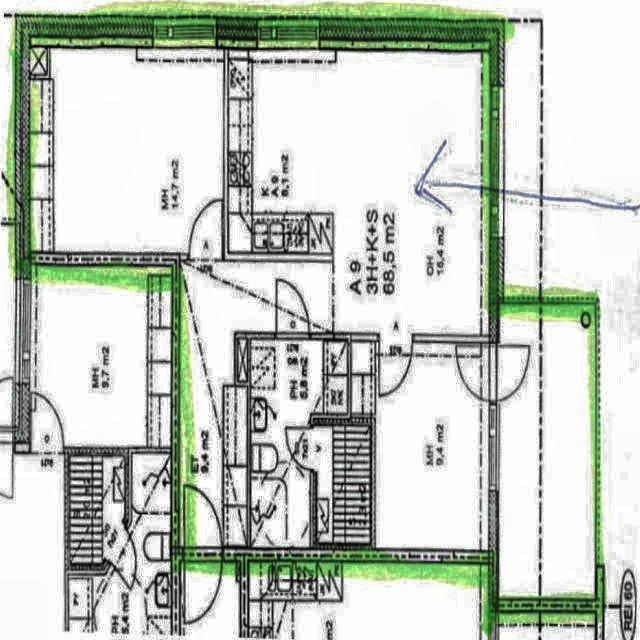room: (32, 50, 223, 251), (351, 342, 488, 550), (32, 267, 171, 447), (251, 340, 347, 547), (313, 426, 370, 542), (71, 457, 124, 563)
